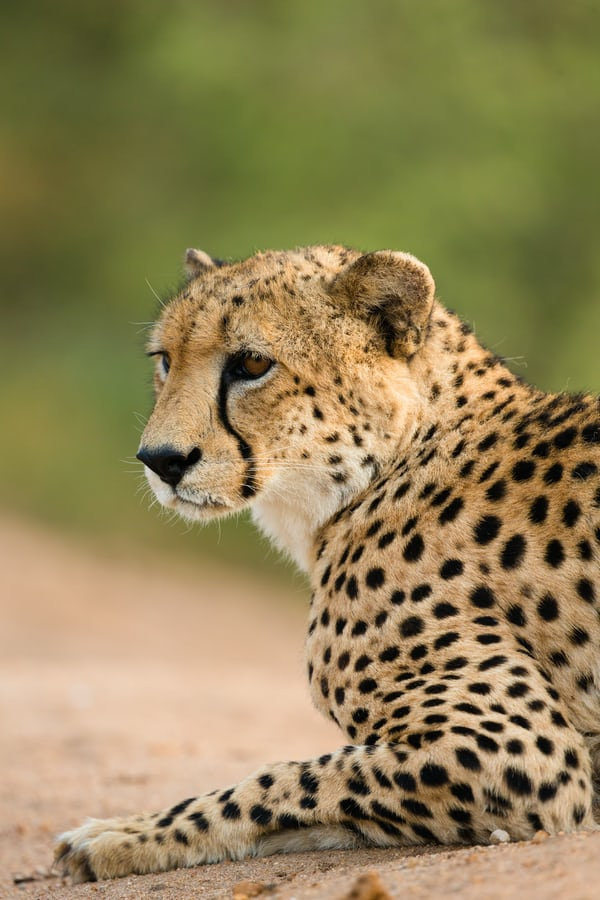cheetah: (90, 203, 499, 559)
